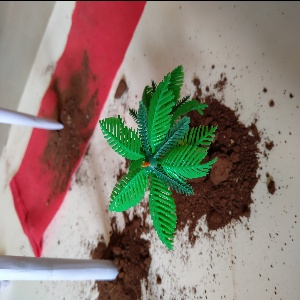plant: (94, 82, 221, 260)
